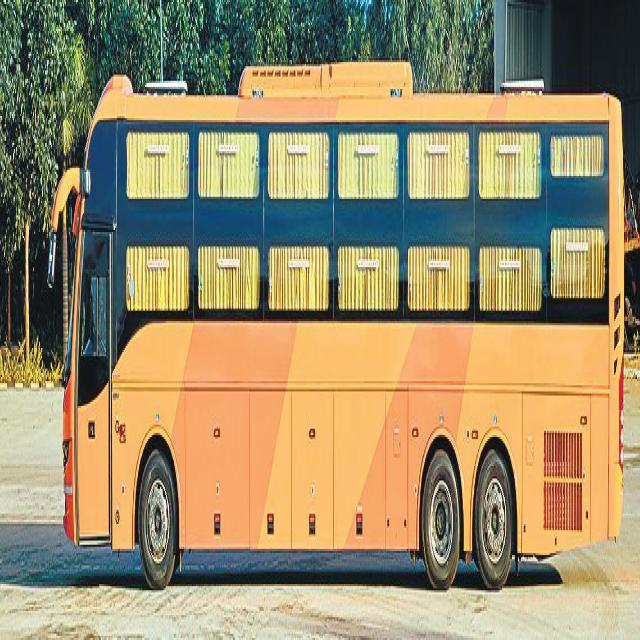bus: (49, 60, 625, 587)
